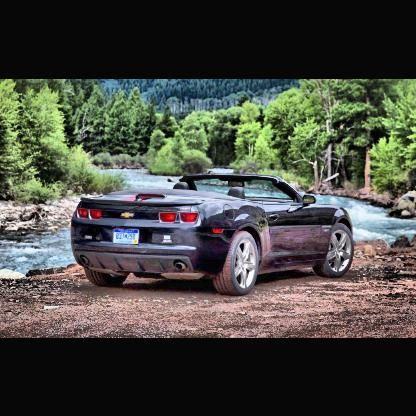Chevrolet Camaro Convertible 2012: (74, 174, 355, 294)
